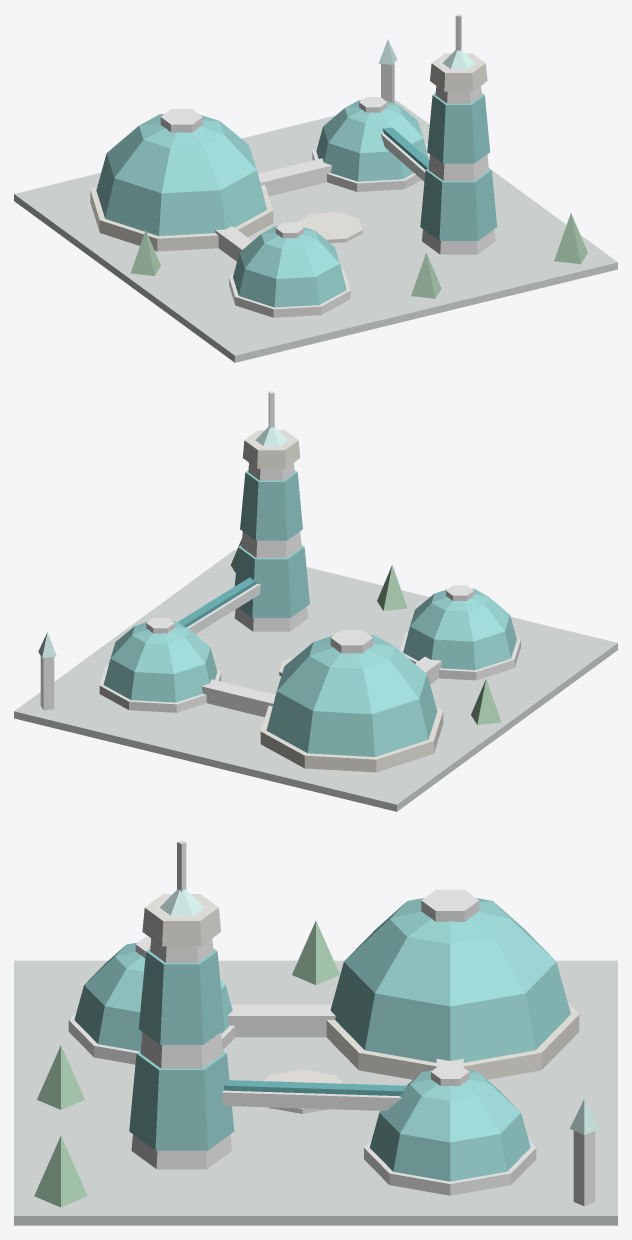
Rendered from town.glb.
3 renders of one model, top to bottom at view 1: azimuth 30°, elevation 25°; view 2: azimuth 150°, elevation 25°; view 3: azimuth 270°, elevation 25°, orthographic. The views are drawn at different scales.
Visible parts, largest first — view 1: arcology_town; view 2: arcology_town; view 3: arcology_town.
Part boxes in pixels (x1,y1,x2,y2): arcology_town: (14,14,617,362); arcology_town: (14,391,617,811); arcology_town: (14,840,617,1225).
Size of the model in its own units: 0.9 by 0.5235 by 0.9.
